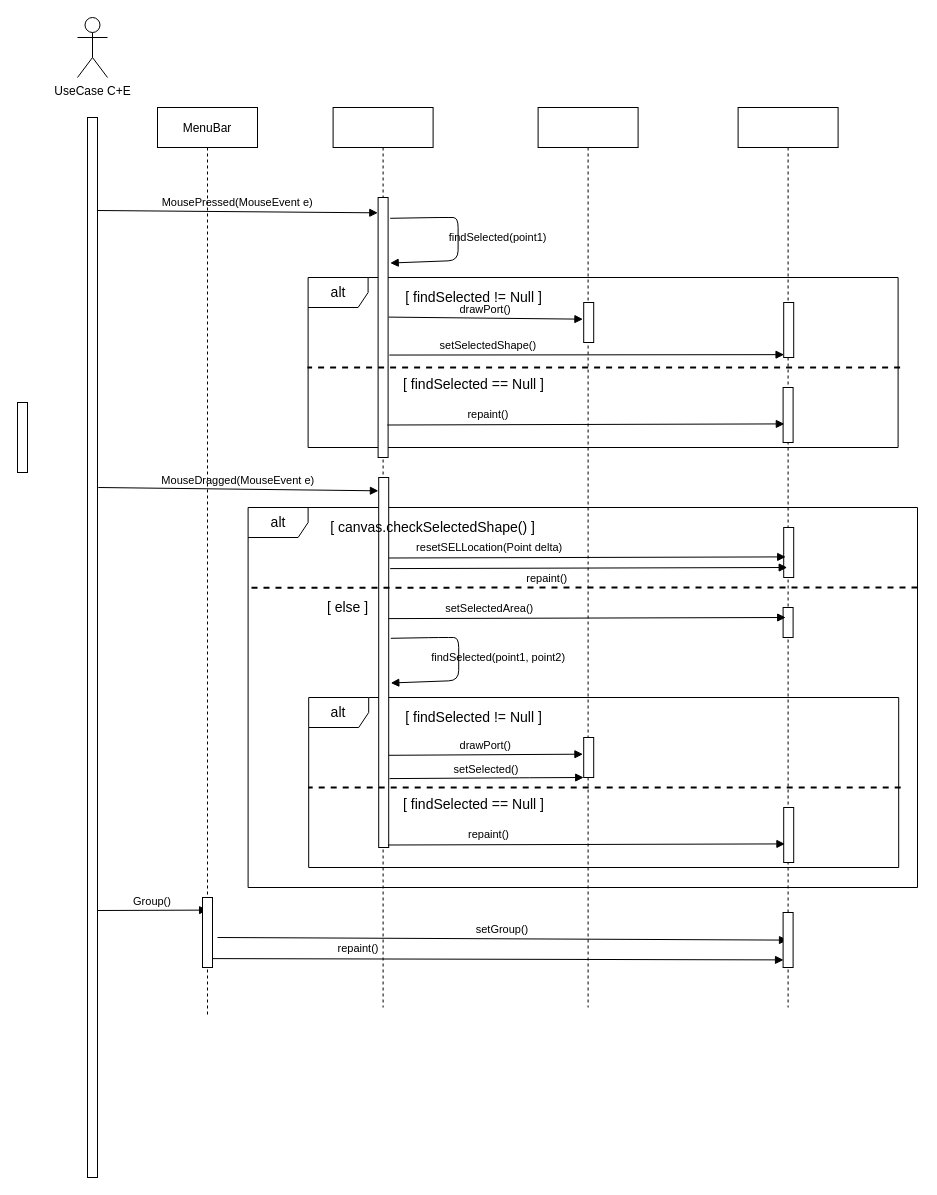
Image size: 937x1195. Some labels were removed from this diagram. The box of each missing label's shape, as (x1, y1, x2, y2) in pixels:
BasicObj: (537, 106, 638, 1008)
Canvas: (737, 106, 838, 1008)
SelectMode: (332, 106, 433, 1008)
